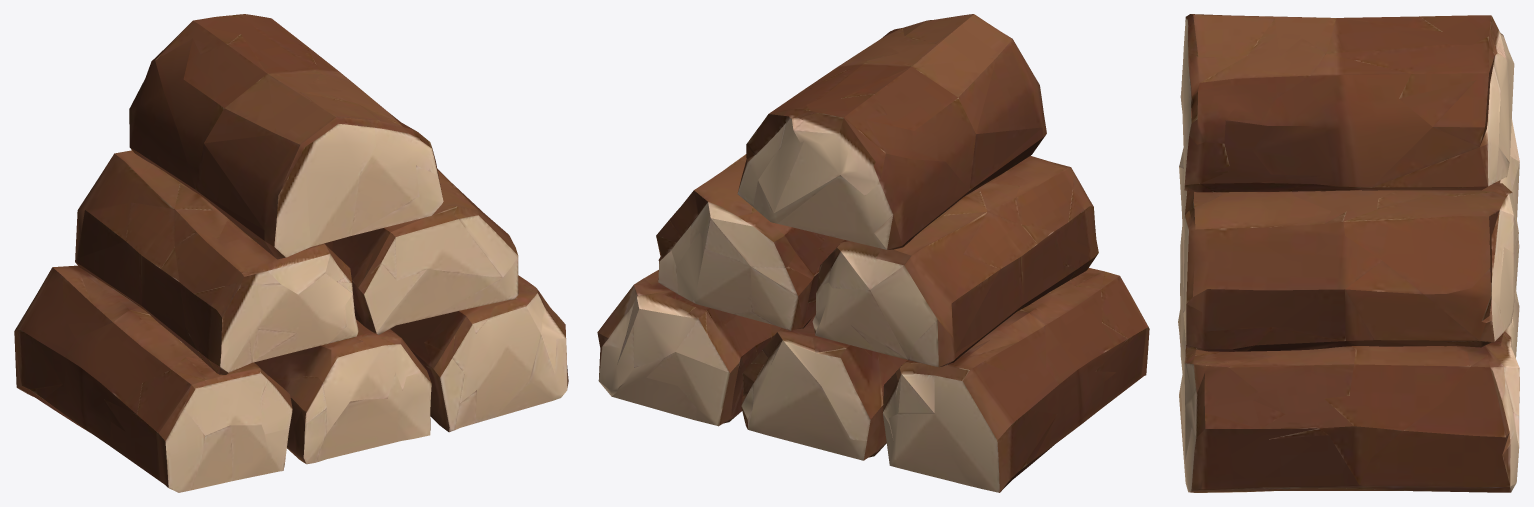
Rendered from firewood.glb.
The picture shows the model from 3 angles, left to right: view 1: azimuth 30°, elevation 25°; view 2: azimuth 150°, elevation 25°; view 3: azimuth 270°, elevation 25°; orthographic projection. The views are drawn at different scales.
Parts seen in each view (by area): view 1: Mesh_0; view 2: Mesh_0; view 3: Mesh_0.
Boxes of the visible parts, <box> form: Mesh_0: <box>14,14,568,492</box>; Mesh_0: <box>597,14,1149,492</box>; Mesh_0: <box>1178,14,1519,492</box>.
Bounding box in the file's own units: 2 × 1.56 × 1.31.
1 material, 1 textured.
